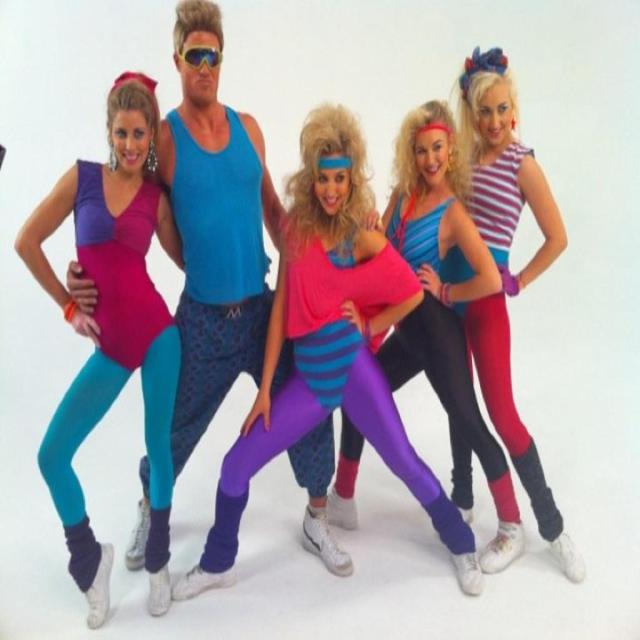Face: (91, 81, 172, 191), (168, 8, 238, 118), (395, 104, 454, 207), (462, 66, 529, 156), (295, 139, 357, 231)
